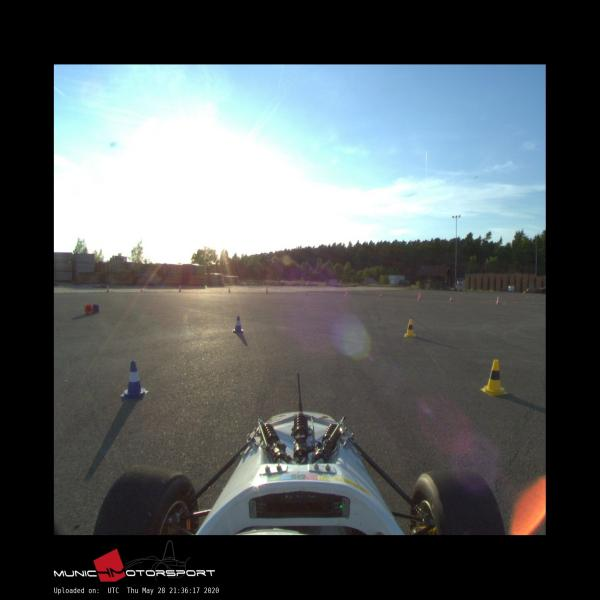blue_cone: (120, 360, 149, 398), (232, 315, 244, 333)
yellow_cone: (481, 359, 508, 396), (404, 319, 416, 337)
